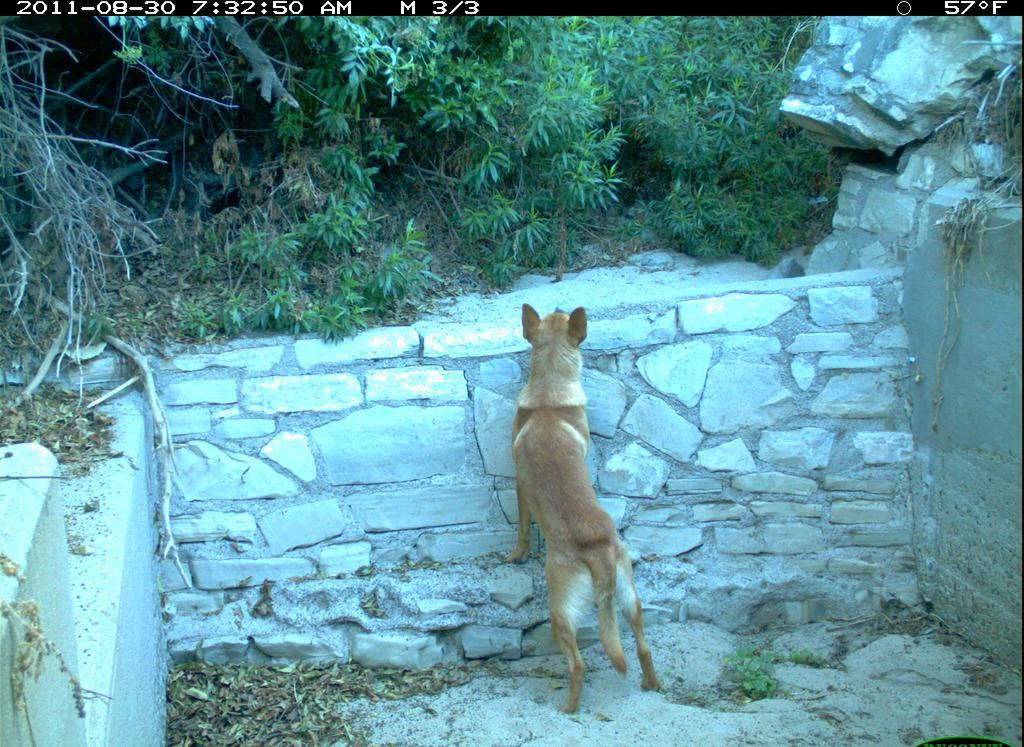dog: (505, 295, 667, 717)
